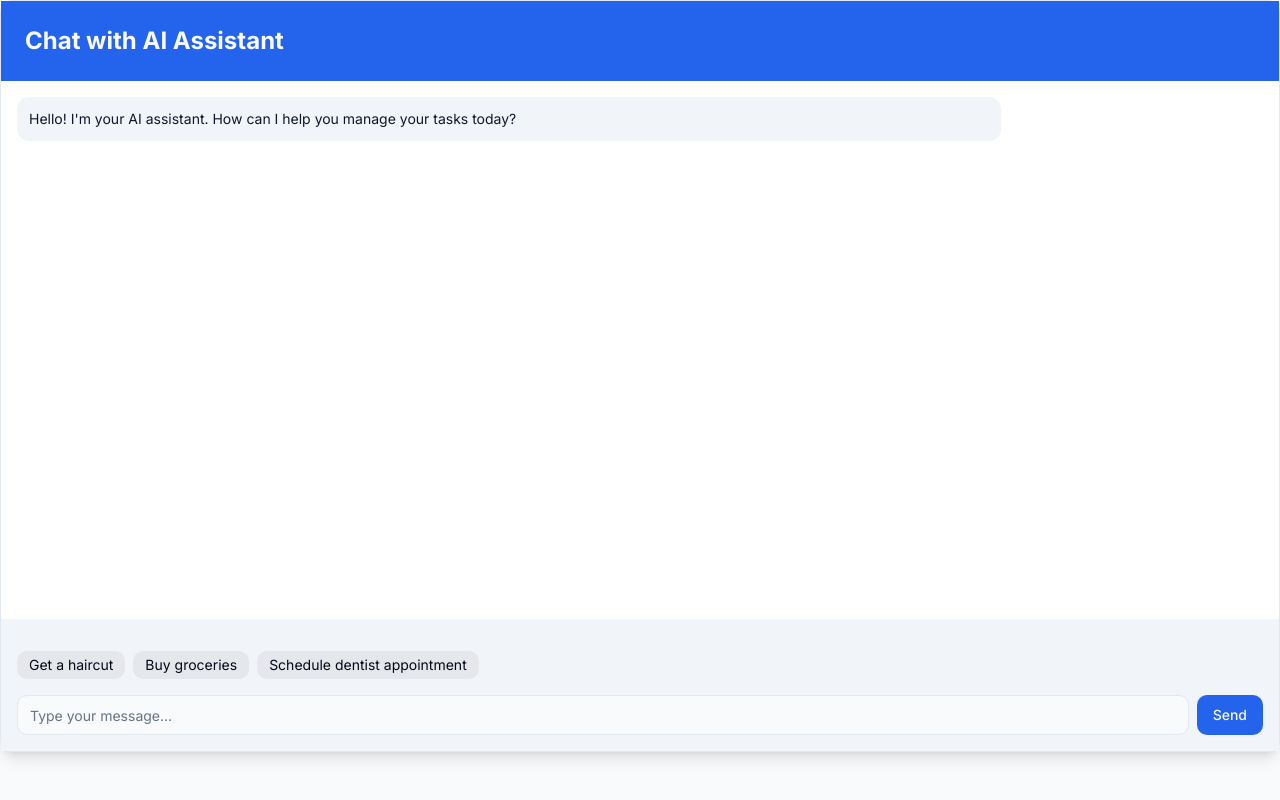
Test: ChatInterface › sends user message and receives AI response
Step 1. Type "Hello AI" into the field with placeholder "Type your message..." → x=603, y=715, box [17,695,1189,735]
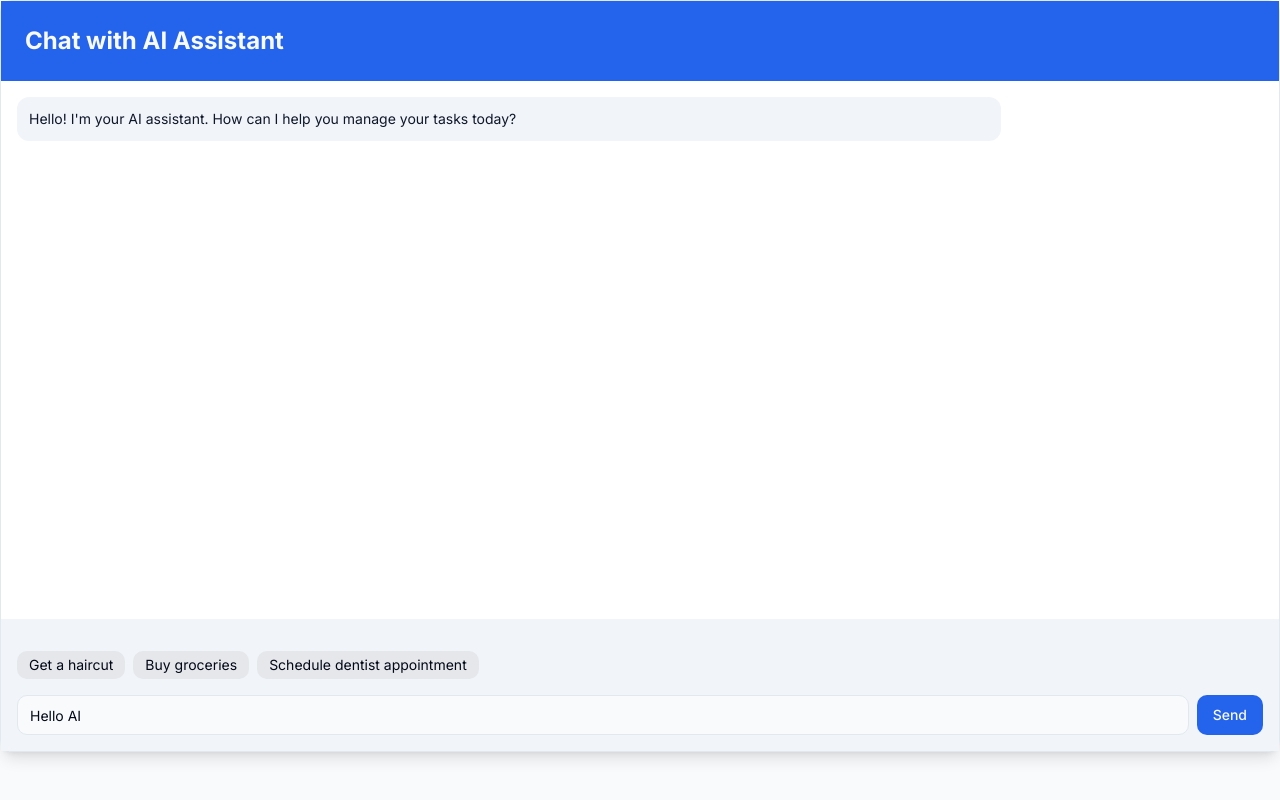
Step 2. Click the button "Send" → x=1230, y=715, box [1197,695,1263,735]
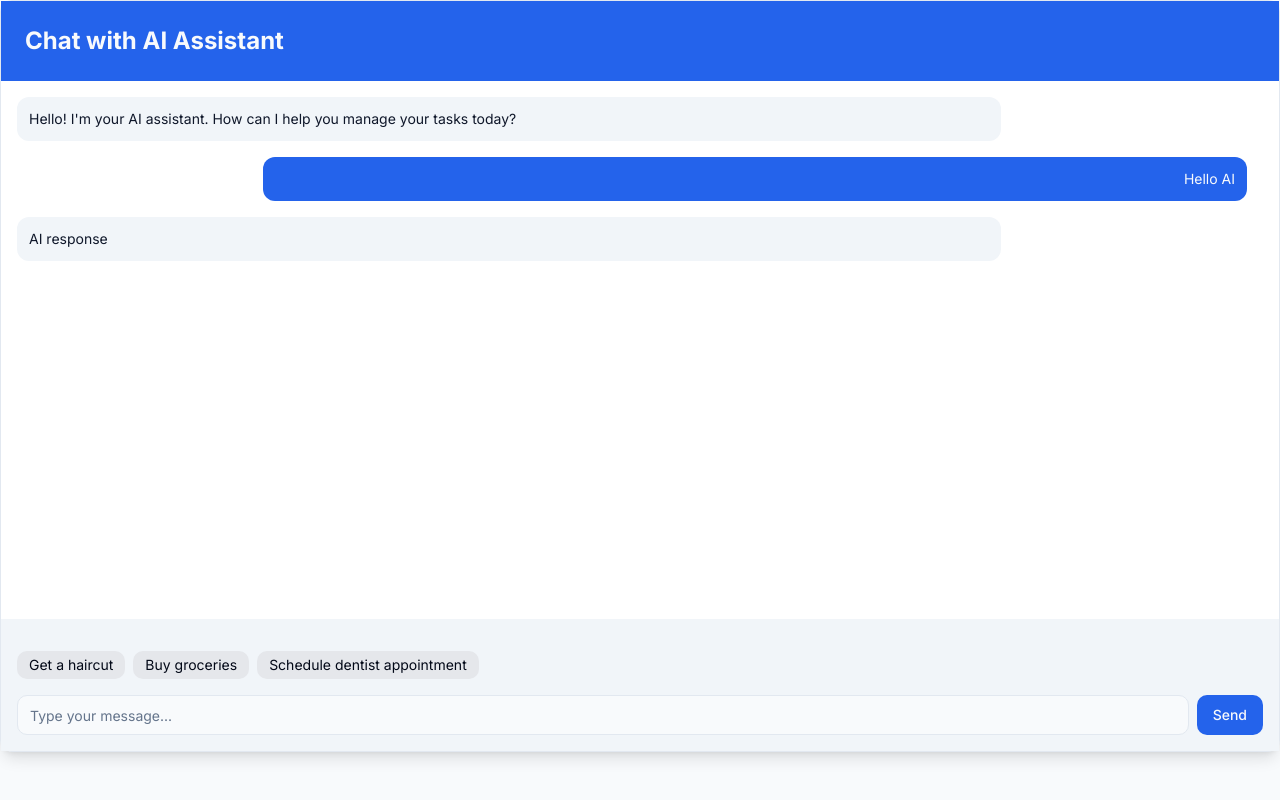
Expected: the text "Hello AI" is shown, [1184,170,1235,187]
Expected: the text "AI response" is shown, [29,230,108,247]
